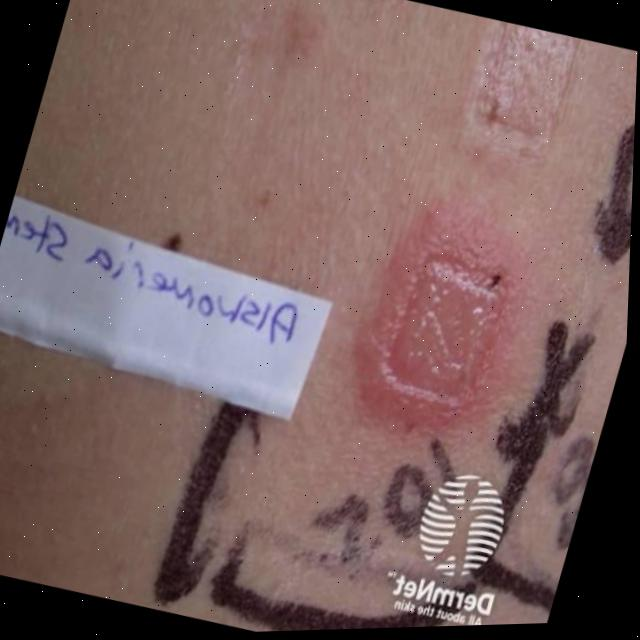Eczema: (332, 214, 554, 445)
